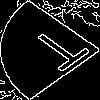T: (25, 25, 100, 79)
